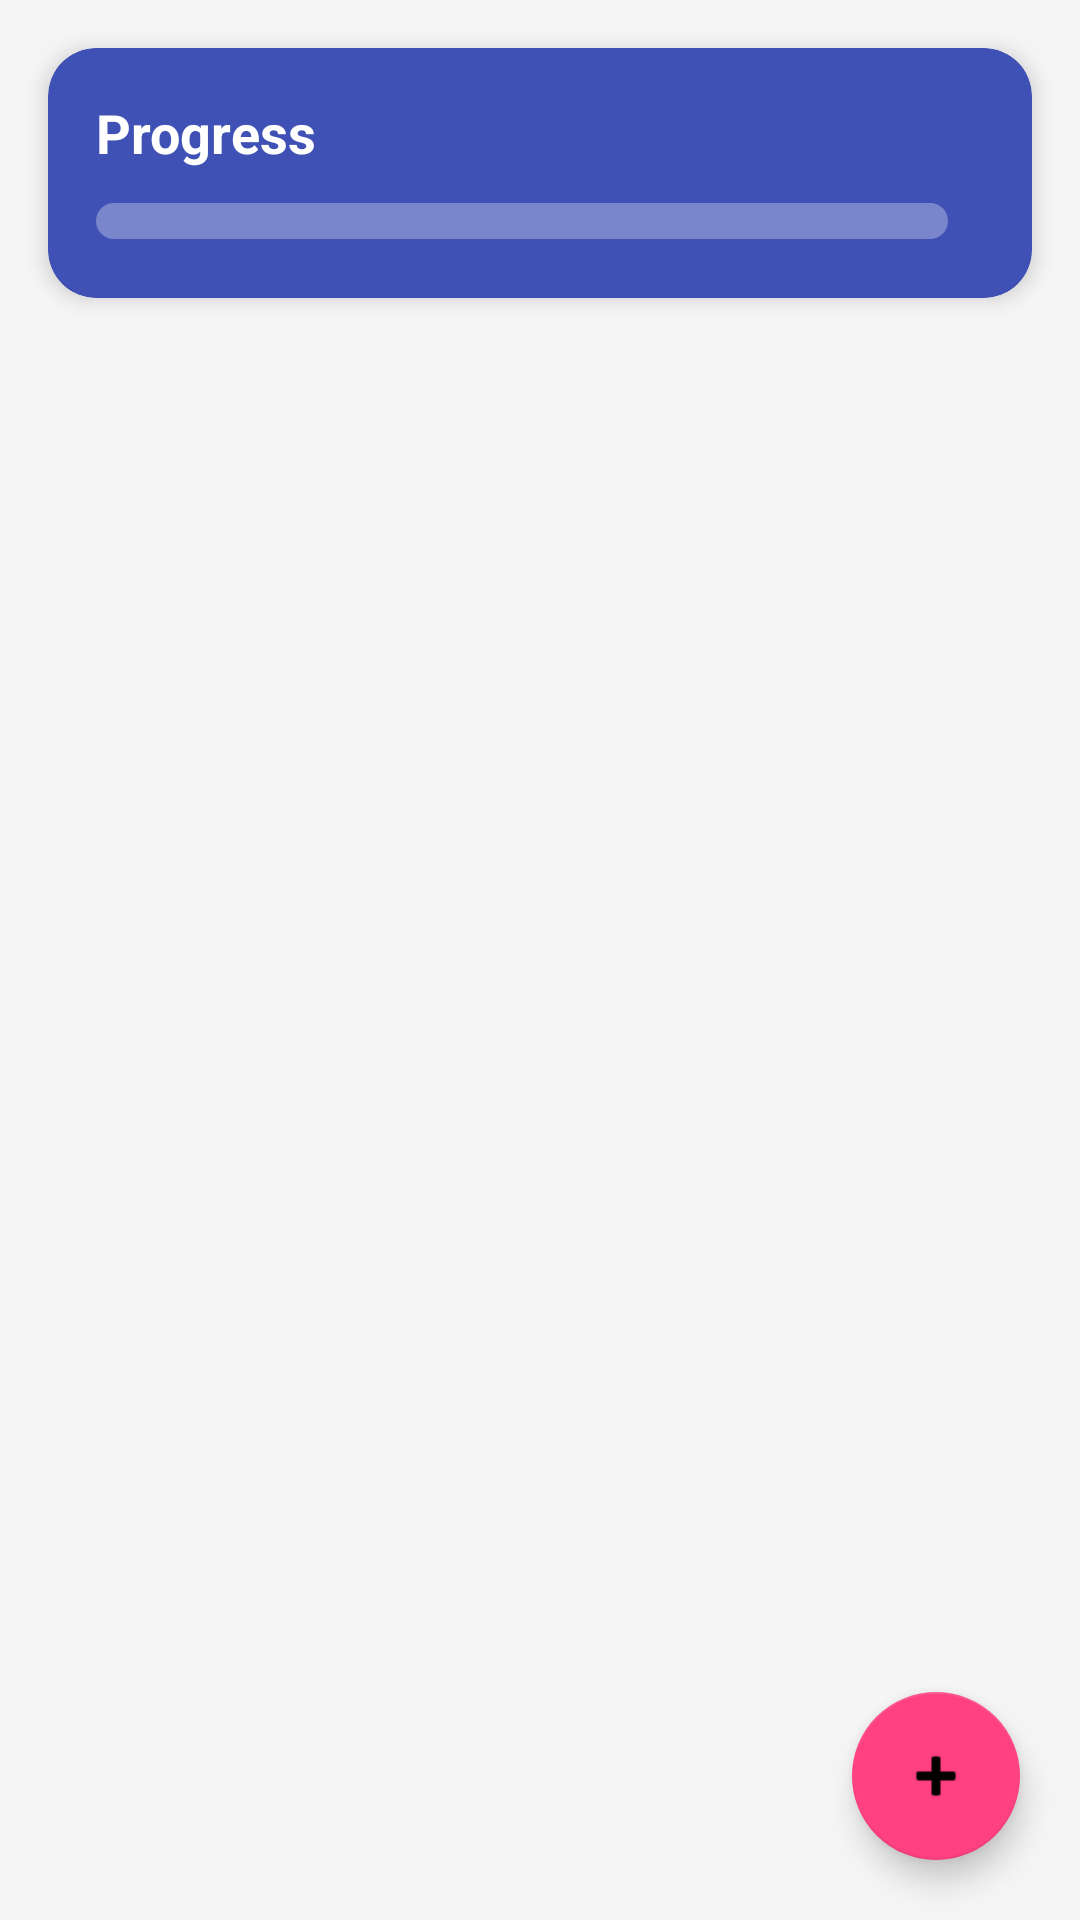

Icons on this 1080px x 1920px Android screen, each with the point to tap as (x=x, y=y):
add: (x=936, y=1776)
